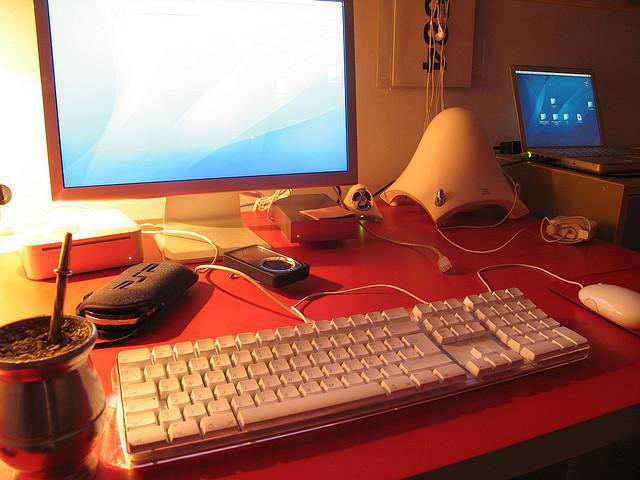tv: (39, 5, 355, 217), (511, 64, 625, 176)
